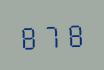eight: (18, 21, 39, 50), (63, 19, 84, 48)
seven: (41, 20, 62, 49)
